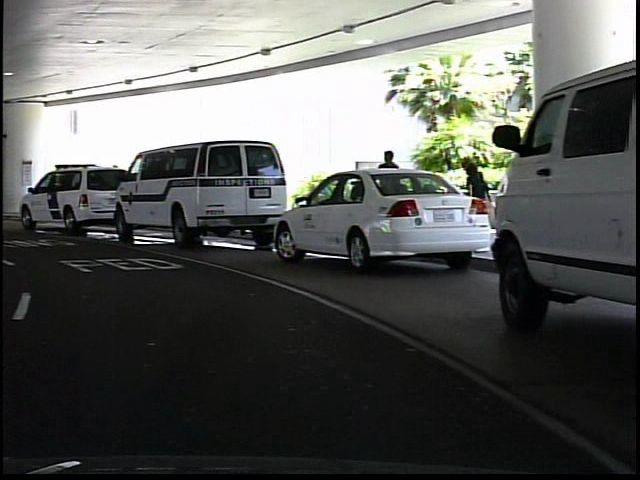person: (372, 145, 406, 235), (456, 155, 490, 244)
